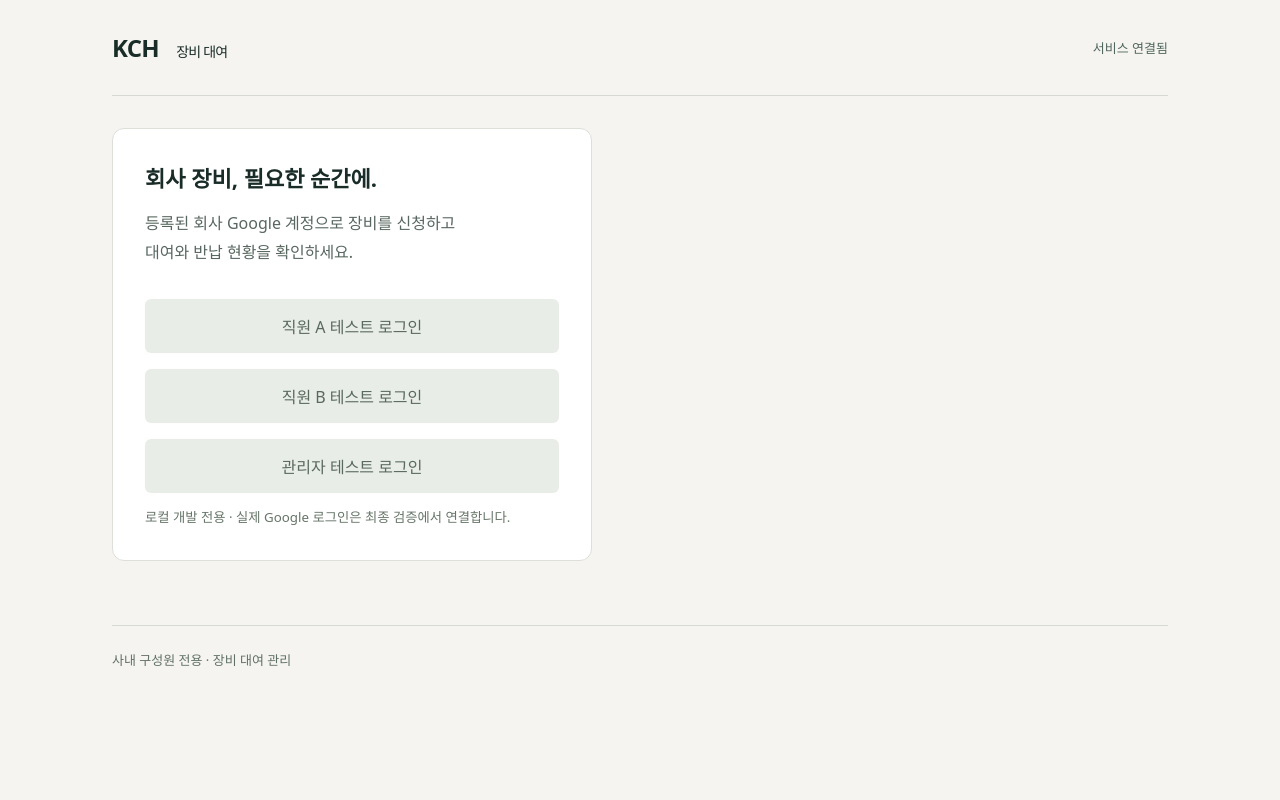
Scenario: a development account can log in and log out
Click the button "관리자 테스트 로그인". click: coordinates (352, 466)
box: [145,439,559,493]
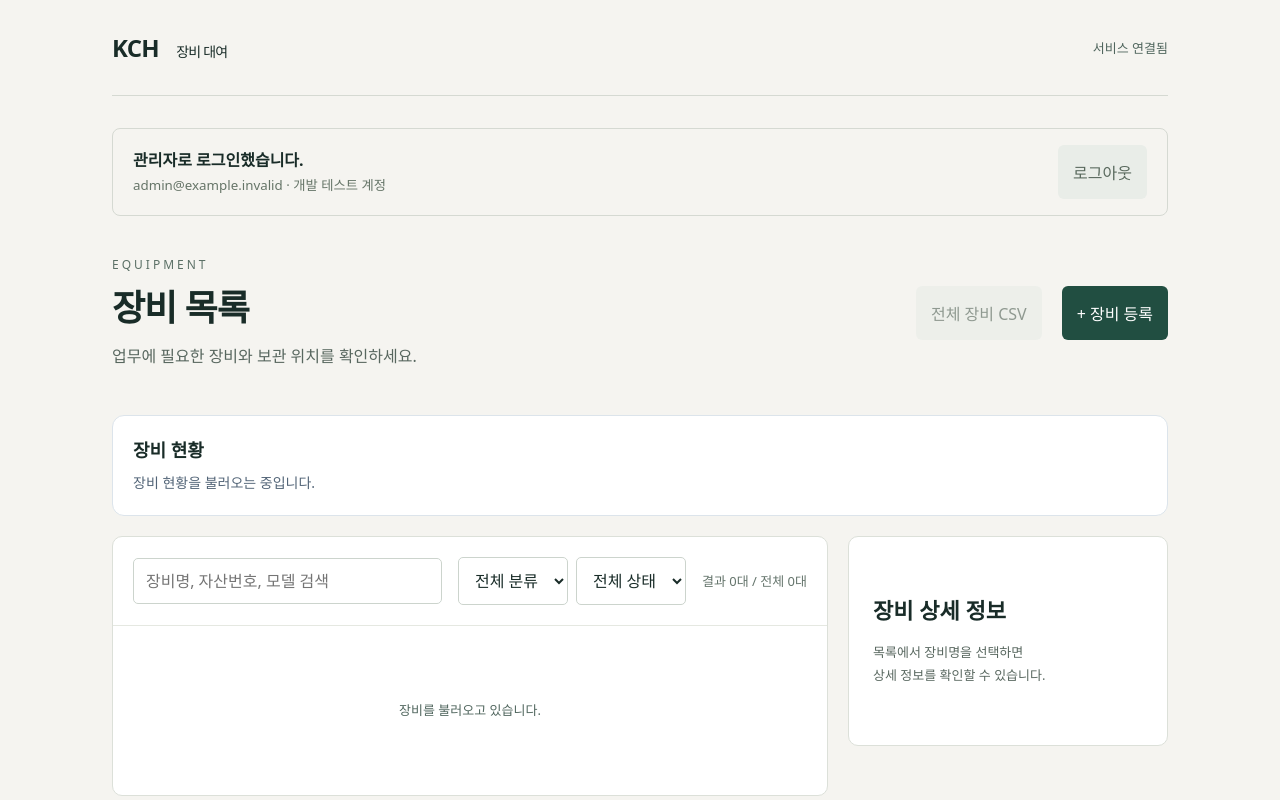
Check: the text "관리자로 로그인했습니다." is shown, box [133,149,304,171]
Click the button "로그아웃". click: coordinates (1103, 172)
box: [1058,145,1147,199]
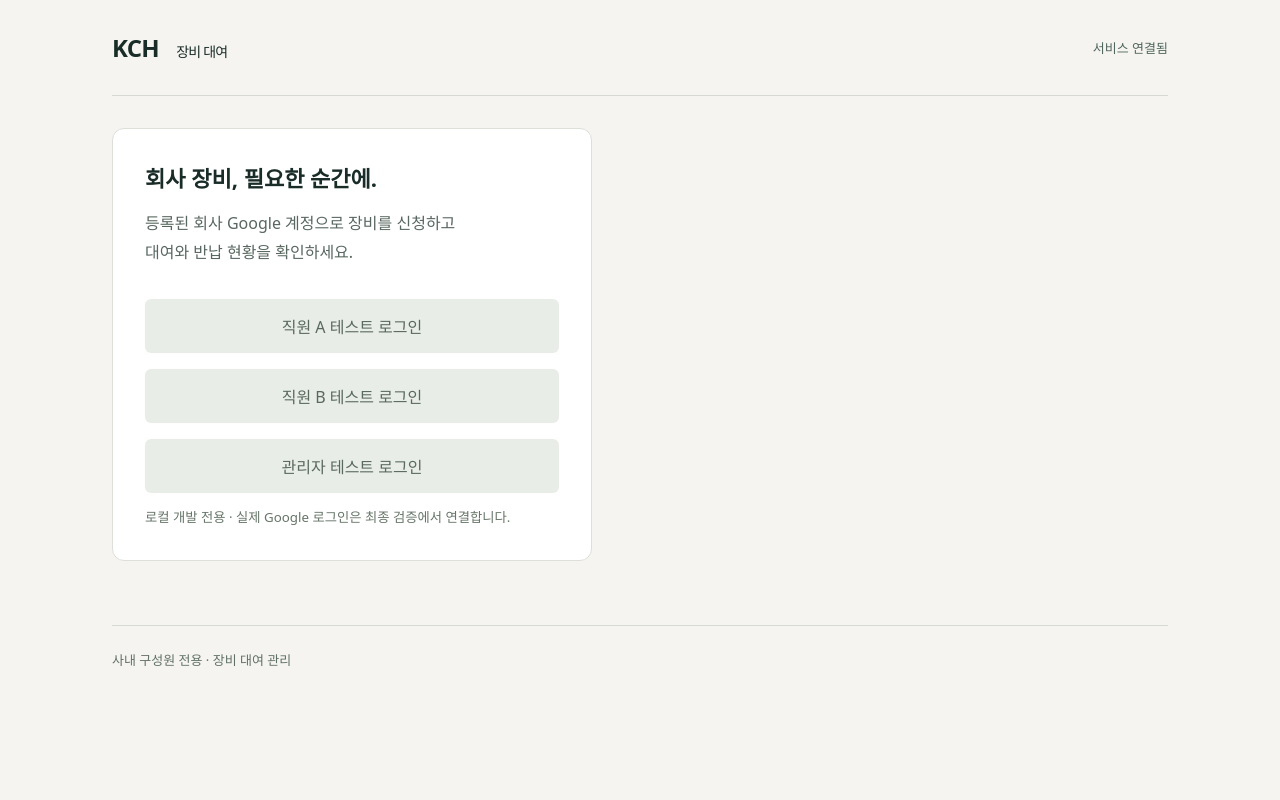
Check: the button "직원 A 테스트 로그인" is shown, box [145,299,559,353]
